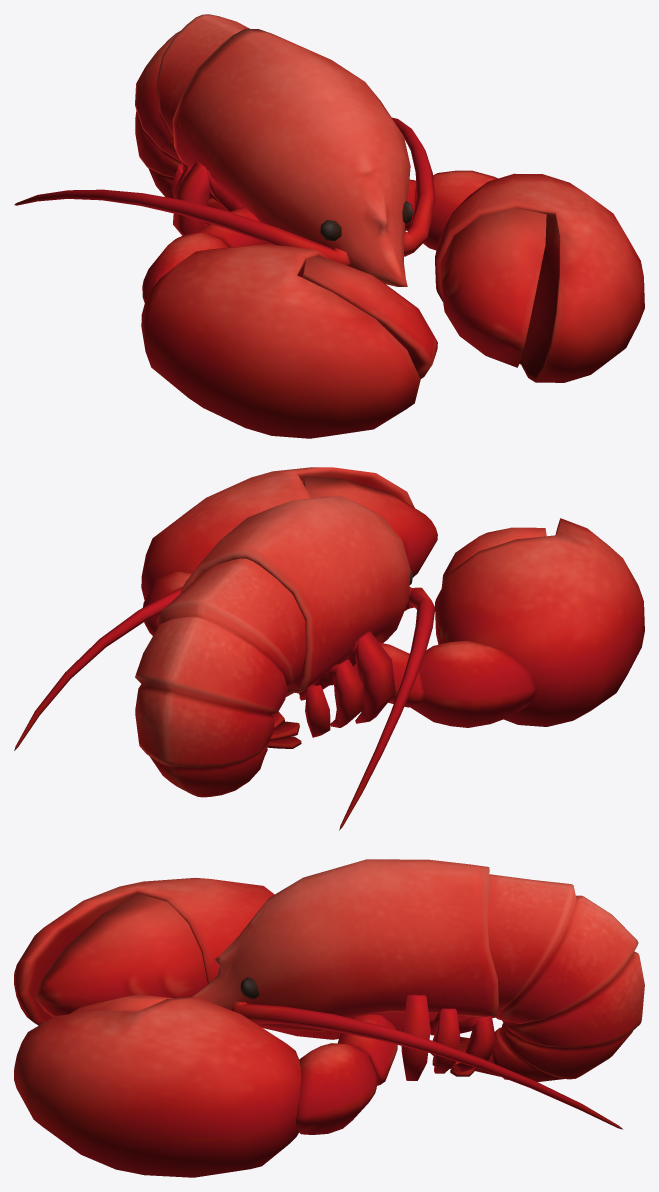
File: Lobster.fbx
3 renders of one model, top to bottom at view 1: azimuth 30°, elevation 25°; view 2: azimuth 150°, elevation 25°; view 3: azimuth 270°, elevation 25°, orthographic. The views are drawn at different scales.
Visible parts, largest first — view 1: Lobster; view 2: Lobster; view 3: Lobster.
Boxes of the visible parts, bbox=[...] form: Lobster: bbox=[14, 14, 644, 438]; Lobster: bbox=[14, 467, 644, 830]; Lobster: bbox=[14, 859, 644, 1177].
Size of the model in its own units: 162 by 82.32 by 198.
